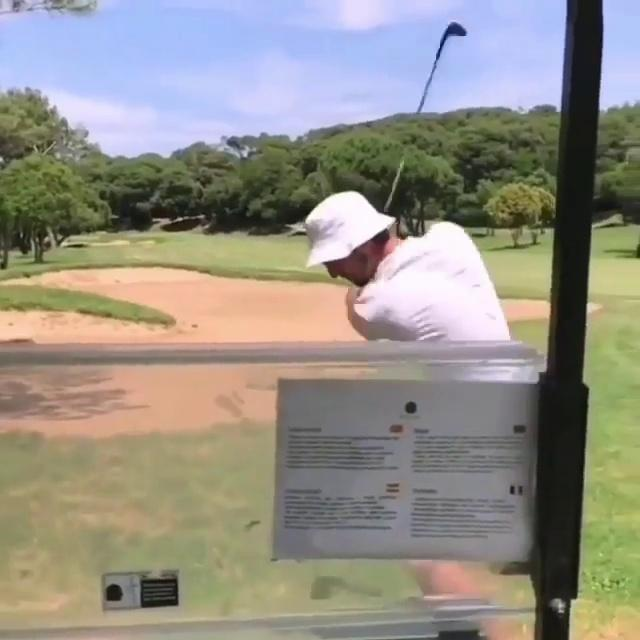ClubHead: (446, 22, 468, 39)
